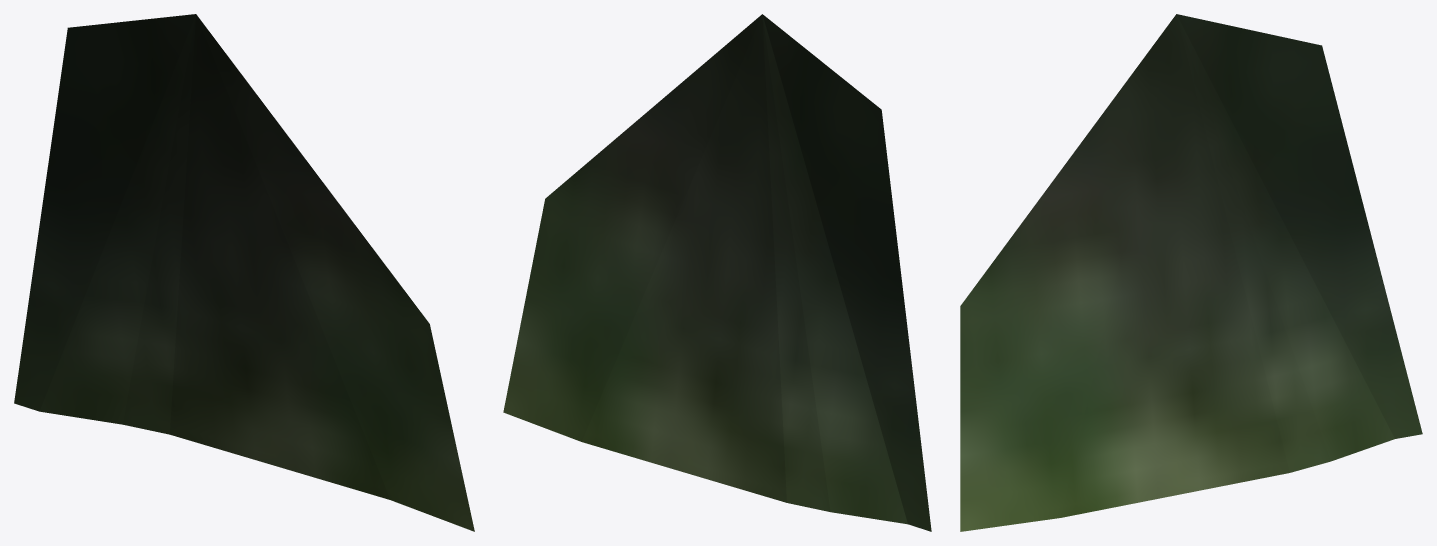
3 renders of one model, left to right at view 1: azimuth 30°, elevation 25°; view 2: azimuth 210°, elevation 25°; view 3: azimuth 270°, elevation 25°, orthographic. The views are drawn at different scales.
Size of the model in its own units: 1.02 by 2.15 by 2.03.
1 material, 1 textured.
